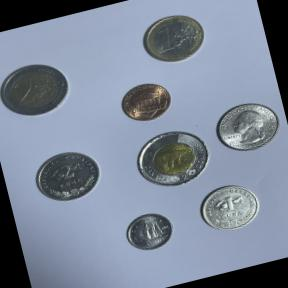coin: (126, 120, 218, 197), (0, 52, 78, 129), (26, 140, 109, 210), (206, 92, 288, 160), (133, 4, 212, 72), (113, 75, 178, 130), (118, 204, 180, 259)
